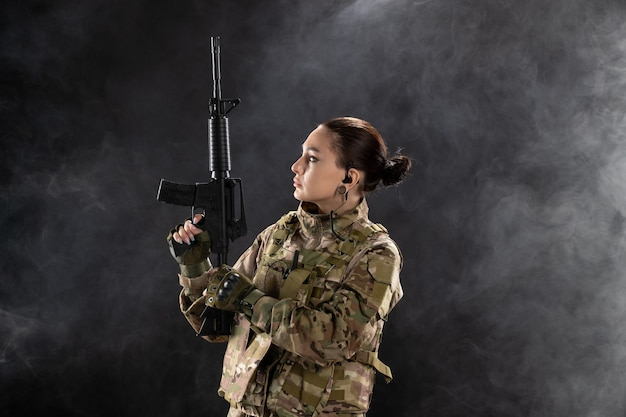gun: (158, 35, 244, 336)
